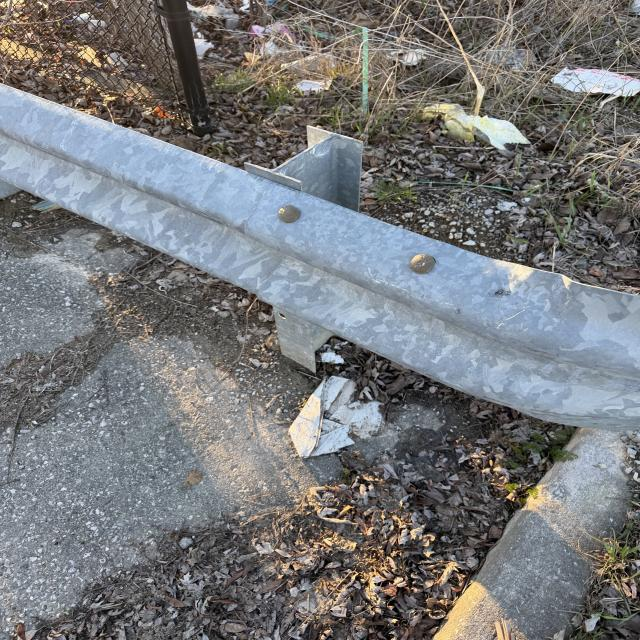Guard rail: (0, 111, 607, 389)
